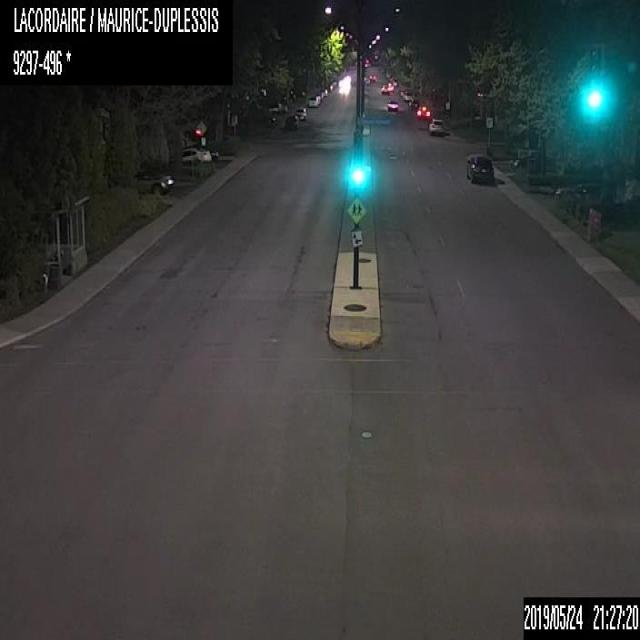vehicle: (554, 180, 603, 204), (509, 153, 557, 173), (136, 168, 173, 192), (466, 156, 494, 184), (181, 143, 211, 166), (427, 118, 445, 134), (282, 114, 299, 130), (416, 104, 431, 118), (292, 106, 306, 121), (385, 99, 399, 111), (269, 102, 285, 112), (380, 81, 392, 94), (306, 94, 319, 106), (408, 96, 420, 108), (403, 90, 412, 100), (314, 90, 322, 100), (319, 87, 326, 95), (368, 74, 374, 82)
